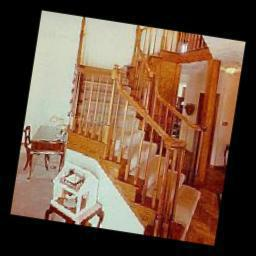Escaleras: (107, 140, 206, 242), (69, 58, 157, 161)
